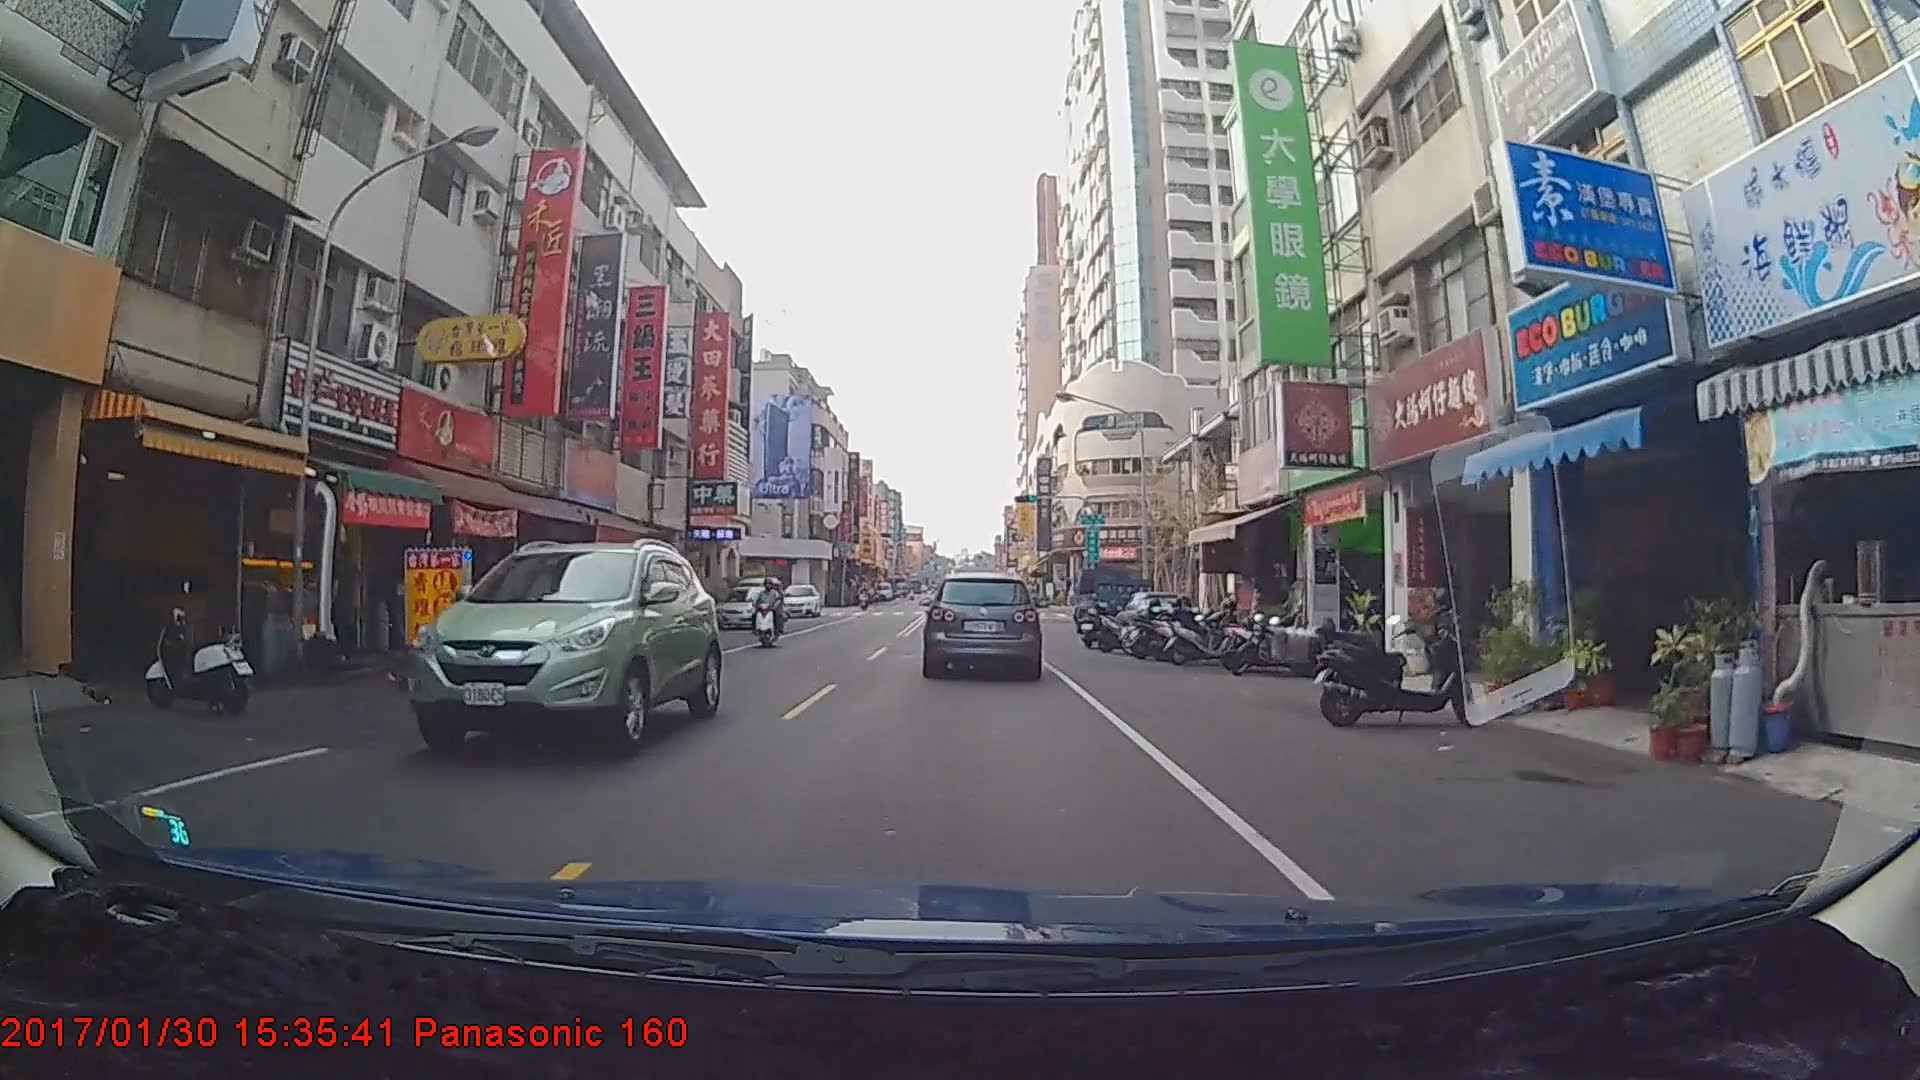rider: (754, 574, 790, 644)
vehicle: (406, 535, 723, 751), (924, 572, 1040, 676), (1069, 567, 1156, 635), (710, 583, 786, 631), (778, 583, 821, 618)
